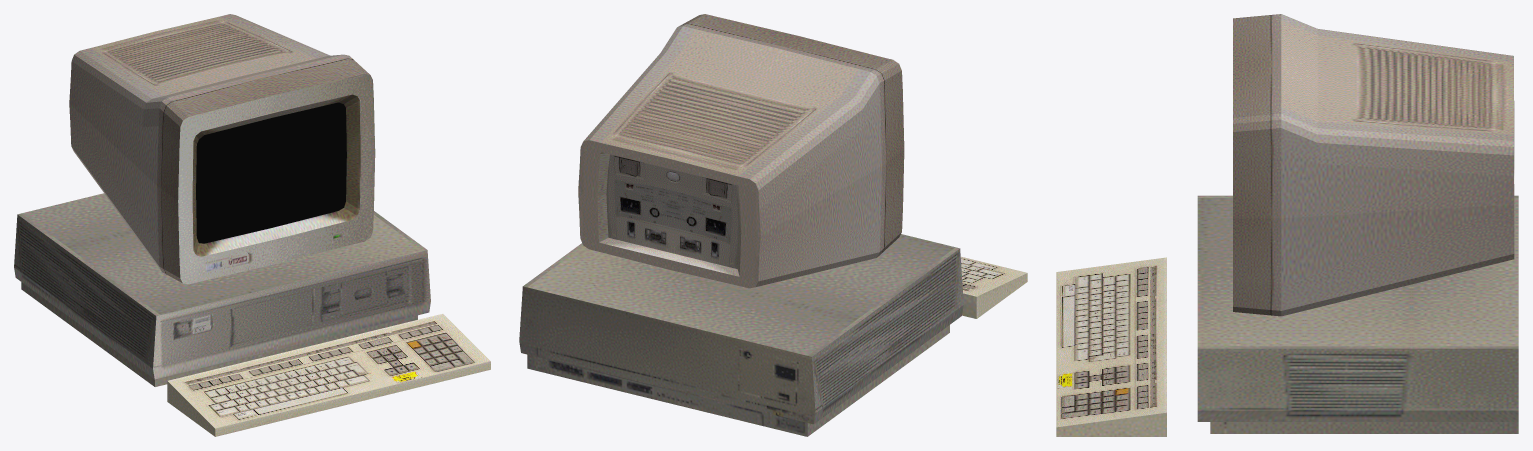
3 renders of one model, left to right at view 1: azimuth 30°, elevation 25°; view 2: azimuth 150°, elevation 25°; view 3: azimuth 270°, elevation 25°, orthographic. The views are drawn at different scales.
Parts seen in each view (by area): view 1: Screen, Cube, Cube.001; view 2: Screen, Cube, Cube.001; view 3: Screen, Cube, Cube.001.
Part boxes in pixels (bbox=[...]): Screen: bbox=[69, 14, 375, 284]; Cube: bbox=[14, 193, 430, 386]; Cube.001: bbox=[167, 313, 490, 436]; Screen: bbox=[578, 14, 904, 288]; Cube: bbox=[519, 234, 963, 436]; Cube.001: bbox=[960, 256, 1027, 318]; Screen: bbox=[1233, 14, 1514, 316]; Cube: bbox=[1197, 195, 1518, 433]; Cube.001: bbox=[1056, 257, 1166, 436].
Size of the model in its own units: 10.48 by 9.27 by 13.07.
4 materials, 3 textured.
